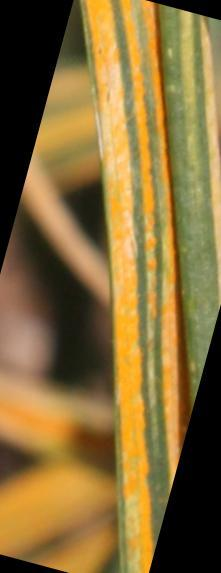Wheat: (112, 180, 191, 349), (101, 10, 181, 175), (120, 355, 148, 572)
